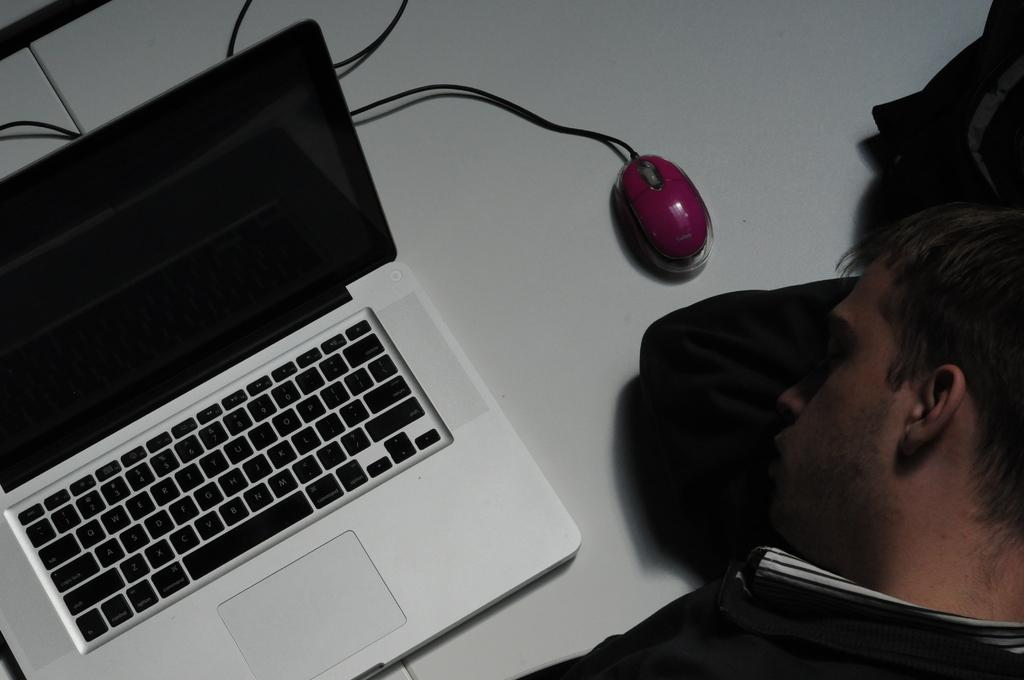Computer-mouse: (609, 156, 715, 277)
